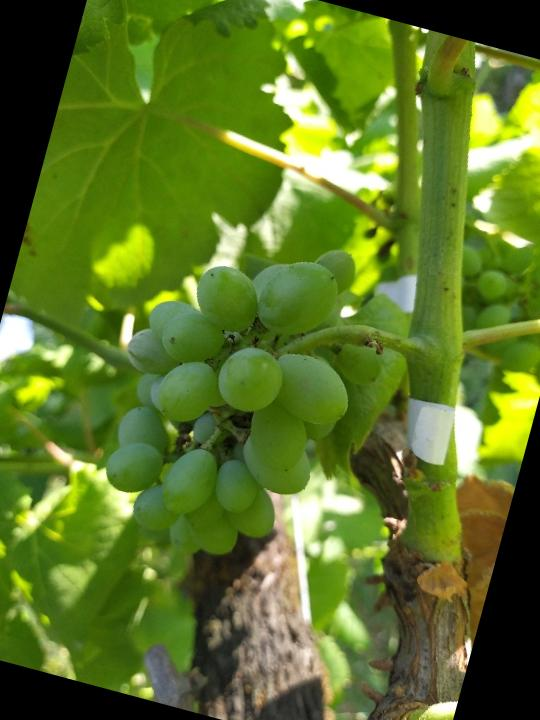grape: (69, 197, 407, 594)
